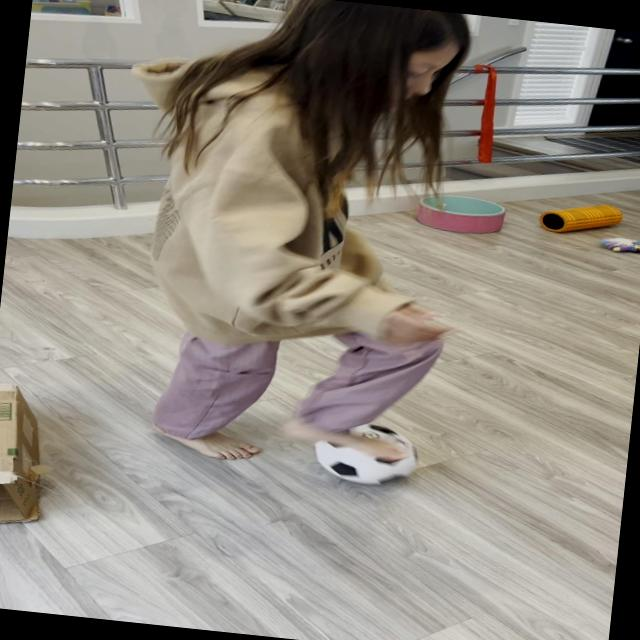Soccer Ball: (311, 418, 421, 489)
